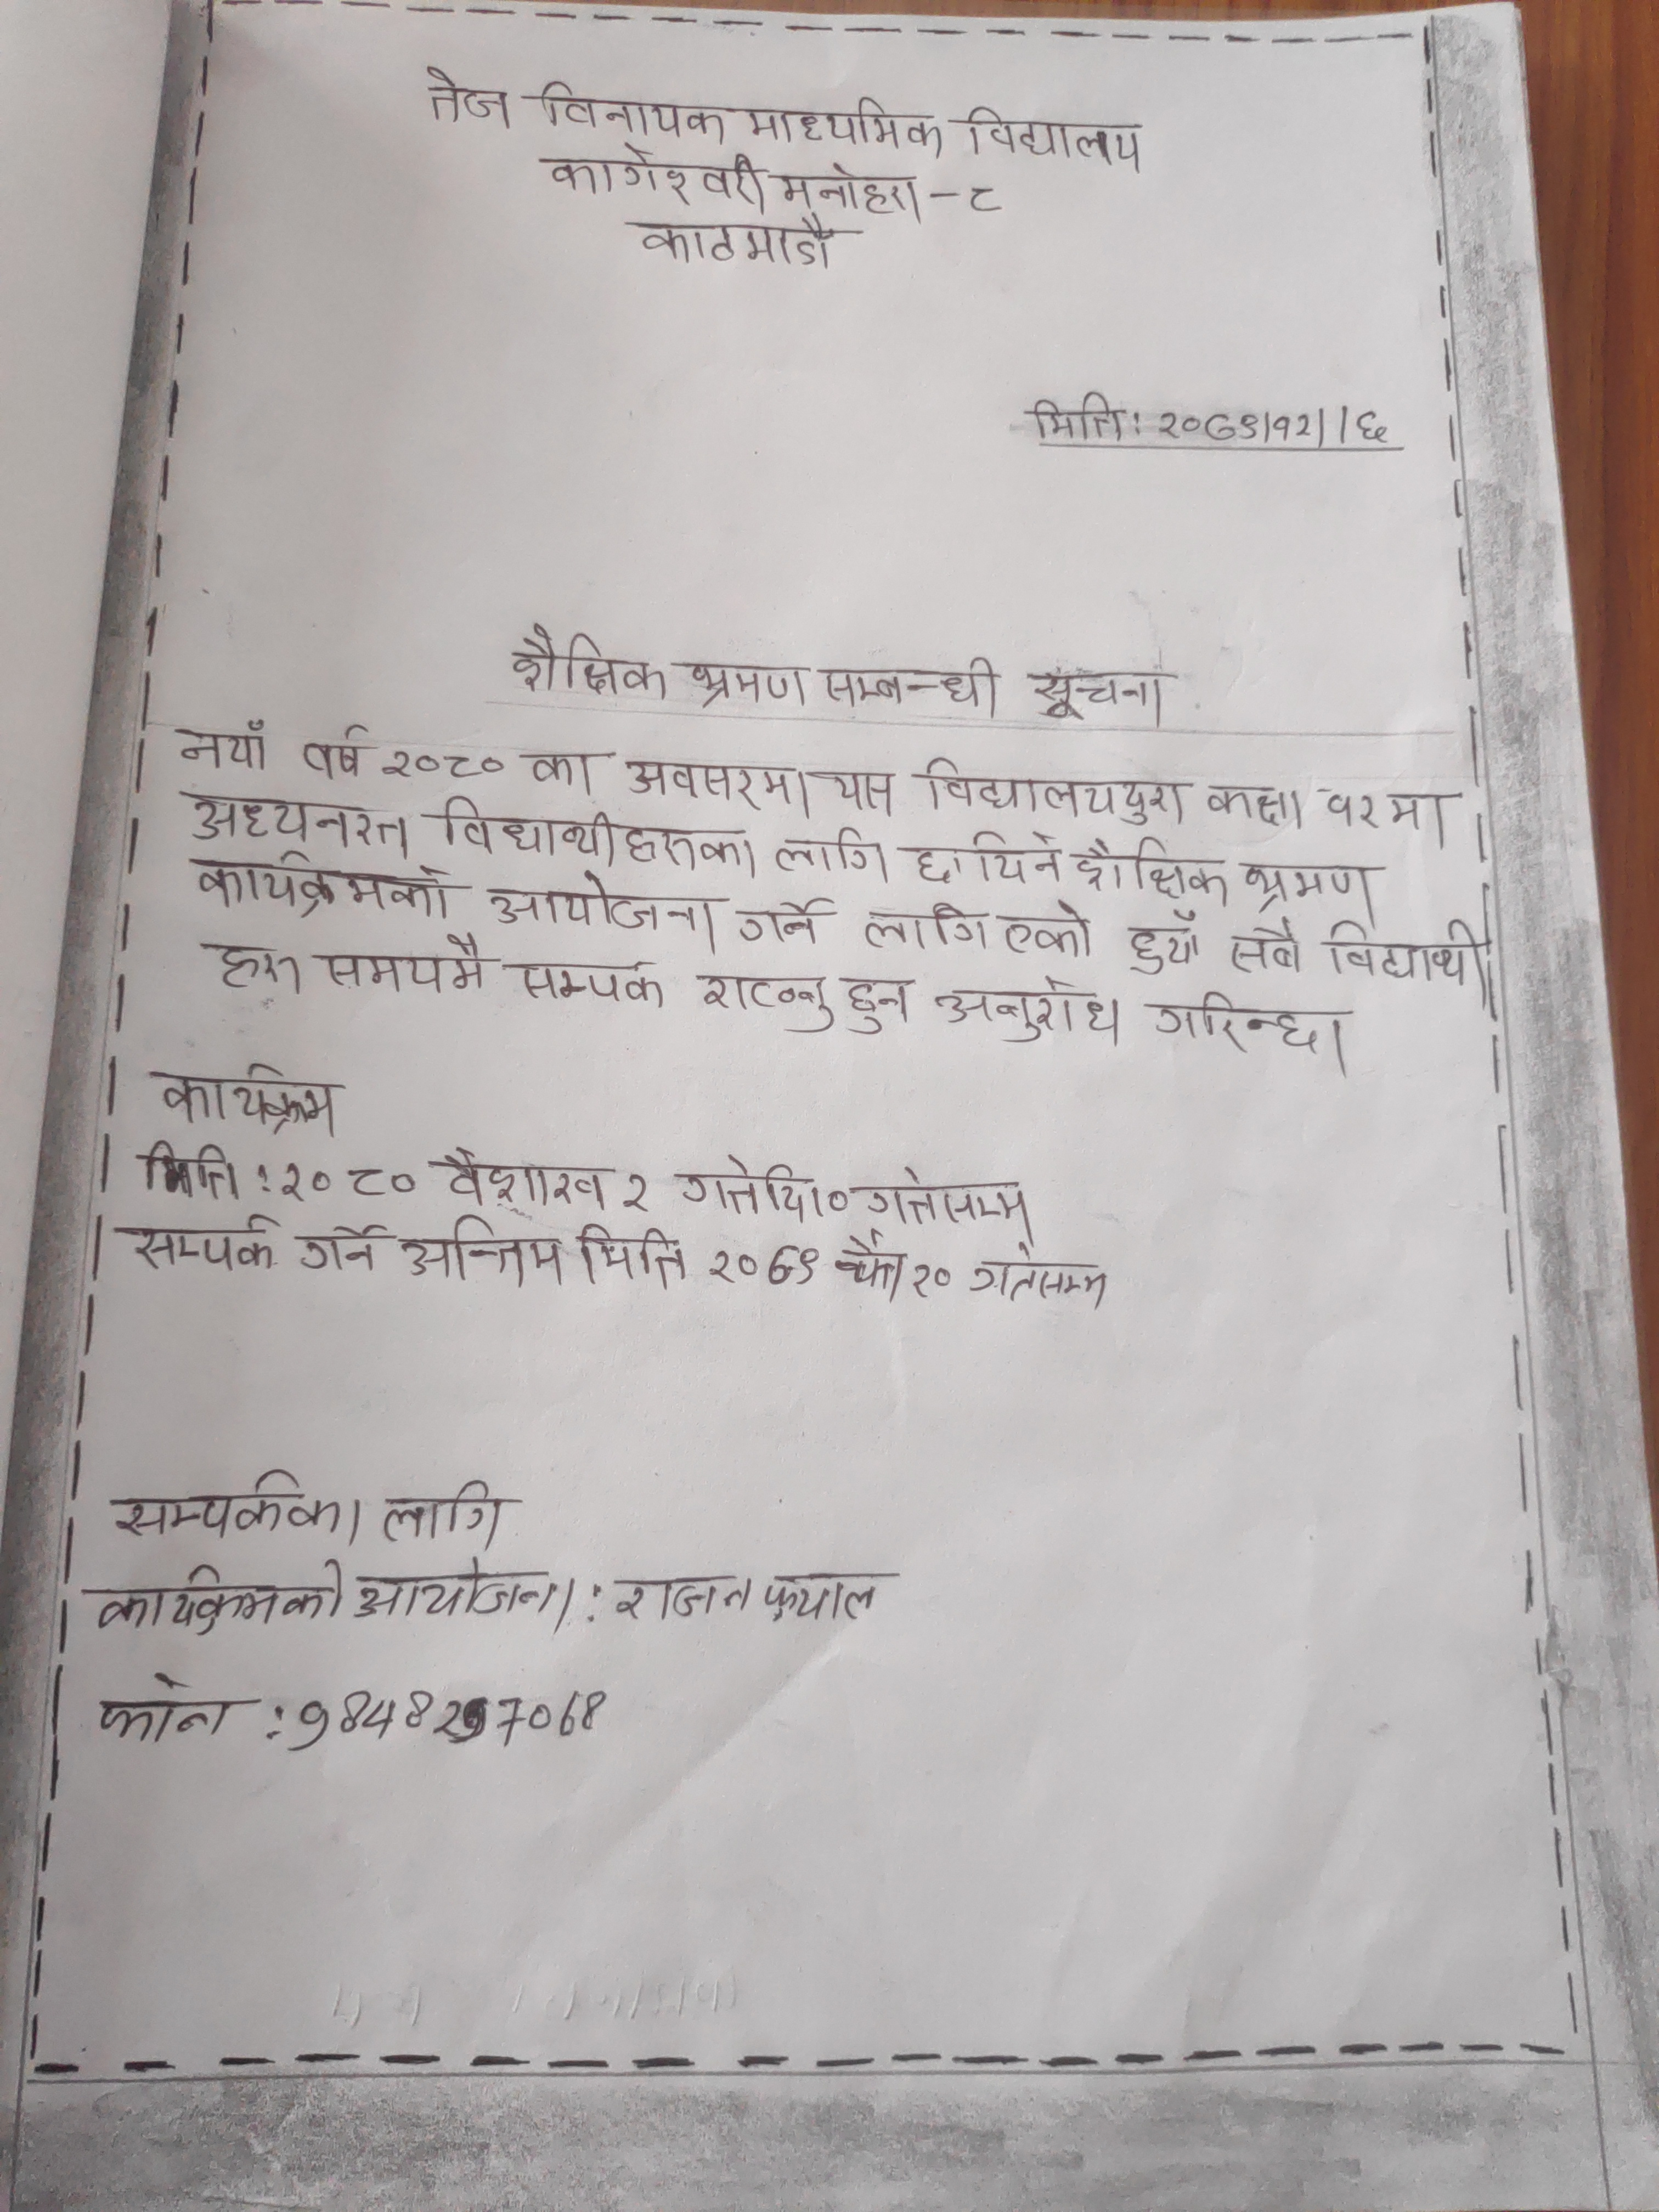text: (436, 791, 760, 880), (289, 1679, 636, 1754), (913, 751, 1187, 824), (188, 852, 455, 927), (85, 1559, 350, 1634), (106, 1467, 364, 1543), (350, 1559, 580, 1630), (483, 878, 721, 946), (179, 787, 410, 857), (532, 145, 770, 211), (857, 895, 1101, 958), (932, 977, 1129, 1052), (146, 1062, 345, 1136), (809, 646, 1000, 719), (509, 624, 674, 707), (629, 209, 843, 273), (532, 77, 730, 145), (1321, 914, 1492, 991), (953, 105, 1148, 171), (744, 91, 950, 153), (1075, 826, 1234, 906), (403, 1211, 568, 1285), (1150, 401, 1398, 449), (622, 747, 810, 810), (427, 1148, 613, 1211), (1141, 993, 1323, 1055), (870, 1165, 1032, 1235), (1026, 655, 1183, 725), (98, 1672, 246, 1745), (312, 935, 493, 995), (502, 953, 676, 1014), (119, 1209, 279, 1275), (962, 1247, 1117, 1312), (695, 968, 840, 1031), (566, 1221, 690, 1294), (378, 1479, 516, 1543), (760, 1564, 901, 1627), (772, 158, 927, 214), (1239, 857, 1380, 918), (772, 822, 892, 894), (673, 1155, 809, 1214), (274, 1153, 418, 1207), (681, 651, 812, 711), (131, 1136, 242, 1204), (612, 1573, 756, 1625), (418, 56, 514, 134), (699, 1233, 824, 1292), (202, 934, 308, 1000), (1021, 387, 1131, 446), (730, 890, 835, 951), (171, 719, 277, 779), (1204, 773, 1307, 834), (964, 822, 1066, 883), (380, 742, 509, 787), (1124, 909, 1202, 981), (293, 1226, 396, 1280), (1220, 920, 1312, 979), (1387, 775, 1457, 852), (833, 1231, 910, 1296), (845, 967, 918, 1031), (295, 725, 368, 786), (826, 765, 908, 817), (526, 749, 606, 798), (904, 1256, 955, 1320), (1323, 782, 1380, 836), (807, 1176, 856, 1231), (957, 171, 1007, 221), (904, 841, 953, 890), (612, 1165, 659, 1214)
